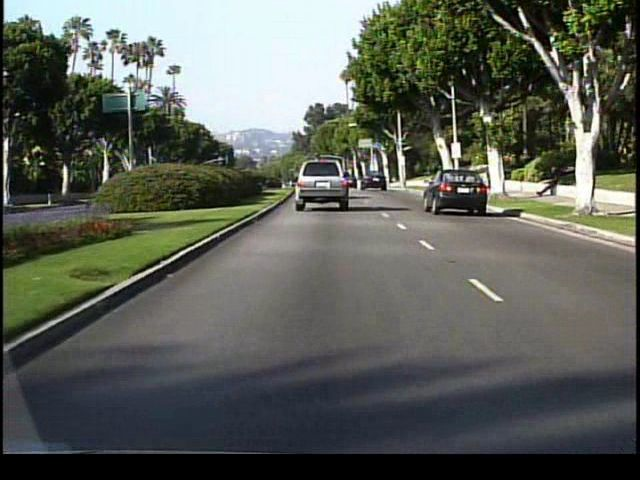person: (540, 162, 564, 202)
